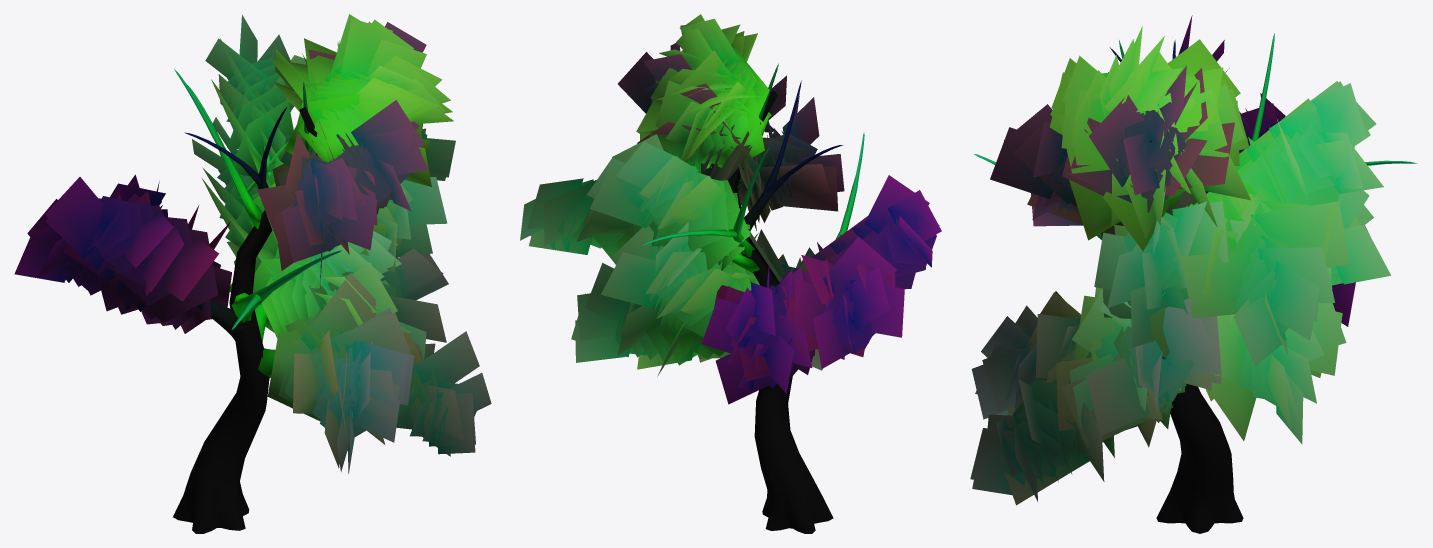
File: All_Green_Tree.fbx
3 views of the same model, side by side, from view 1: azimuth 30°, elevation 25°; view 2: azimuth 150°, elevation 25°; view 3: azimuth 270°, elevation 25° (orthographic). The views are drawn at different scales.
Parts seen in each view (by area): view 1: sprite_0040_1, sprite_0039_2, treenolleaf_maya__0sg1_basecolor_0; view 2: sprite_0040_1, sprite_0039_2, treenolleaf_maya__0sg1_basecolor_0; view 3: sprite_0040_1, sprite_0039_2, treenolleaf_maya__0sg1_basecolor_0.
Part boxes in pixels (bbox=[...]): sprite_0040_1: bbox=[14, 14, 491, 473]; sprite_0039_2: bbox=[62, 58, 447, 444]; treenolleaf_maya__0sg1_basecolor_0: bbox=[100, 69, 352, 533]; sprite_0040_1: bbox=[520, 14, 941, 404]; sprite_0039_2: bbox=[543, 47, 936, 388]; treenolleaf_maya__0sg1_basecolor_0: bbox=[640, 63, 939, 533]; sprite_0040_1: bbox=[970, 15, 1390, 505]; sprite_0039_2: bbox=[1006, 72, 1354, 487]; treenolleaf_maya__0sg1_basecolor_0: bbox=[974, 33, 1417, 533].
Size of the model in its own units: 521 by 585 by 432.
